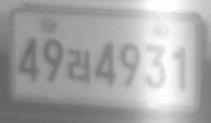1: (169, 45, 193, 90)
3: (145, 43, 168, 87)
4: (93, 41, 118, 87), (18, 37, 41, 82)
9: (42, 37, 64, 81), (119, 42, 141, 85)
러: (66, 47, 91, 84)
